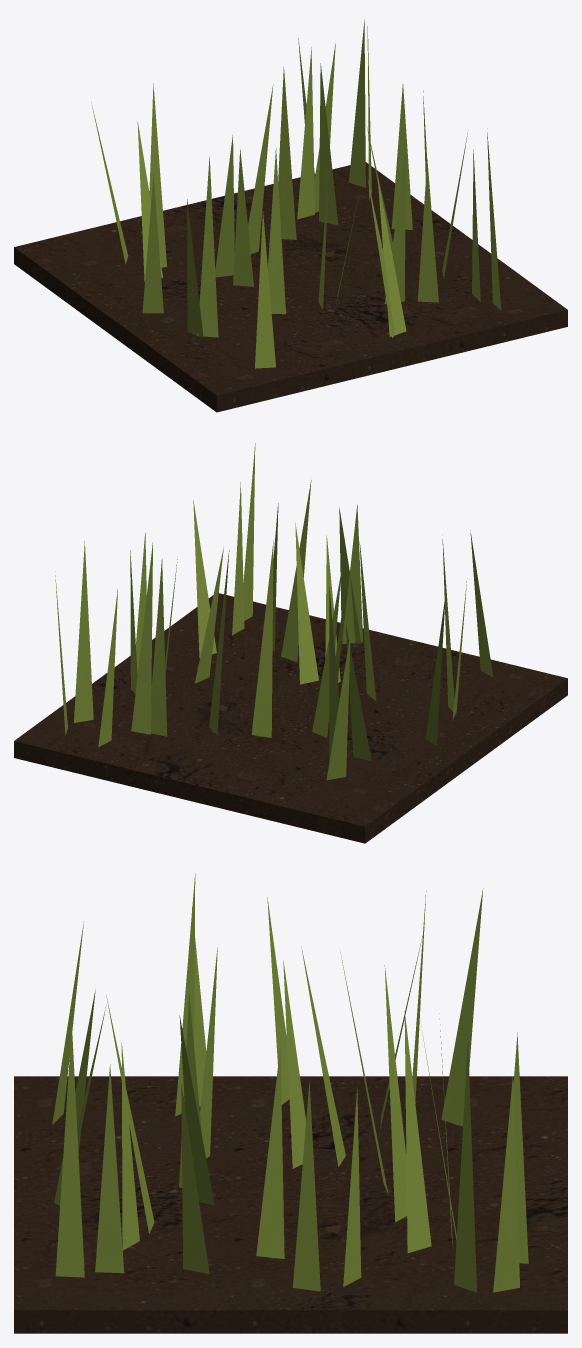
File: wheat_growing_01.glb
The picture shows the model from 3 angles, top to bottom: view 1: azimuth 30°, elevation 25°; view 2: azimuth 150°, elevation 25°; view 3: azimuth 270°, elevation 25°; orthographic projection. The views are drawn at different scales.
Visible parts, largest first — view 1: wheat_growing_01; view 2: wheat_growing_01; view 3: wheat_growing_01.
Boxes of the visible parts, left/top/right/bottom form: wheat_growing_01: left=14, top=19, right=567, bottom=412; wheat_growing_01: left=14, top=443, right=567, bottom=843; wheat_growing_01: left=14, top=873, right=567, bottom=1333.
Size of the model in its own units: 1.3 by 0.7063 by 1.3.
2 materials, 2 textured.
